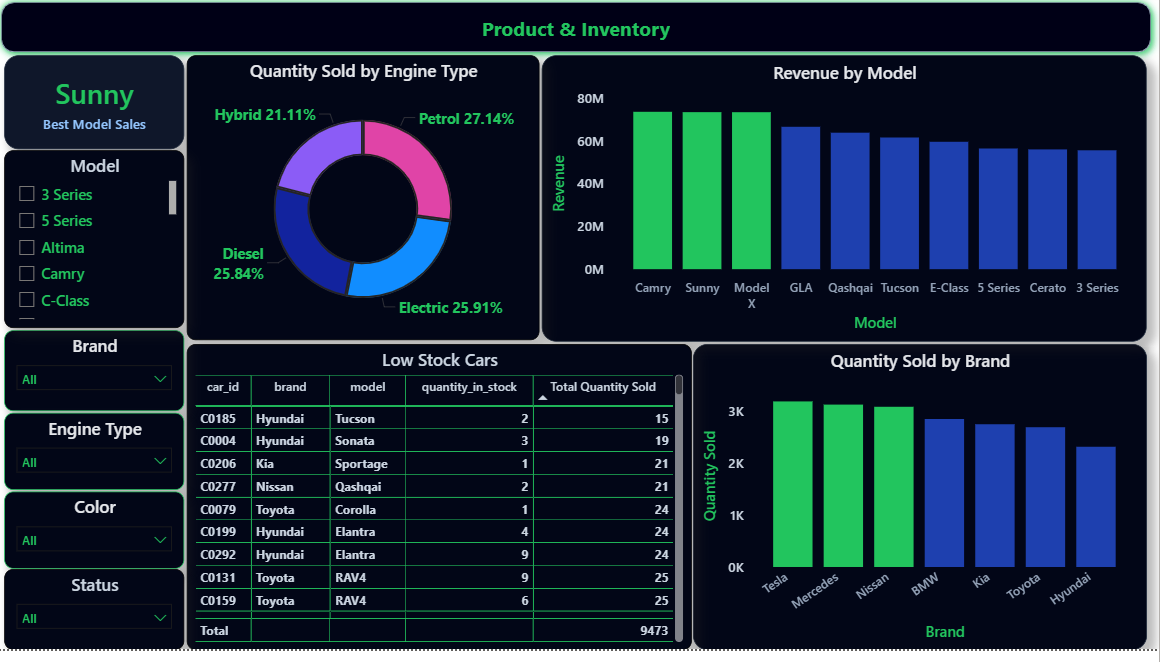

This screenshot's page, from the dashboard's own definition file:
{"tool":"powerbi","page":{"name":"Page 3","canvas":[1280,720],"ordinal":2},"visuals":[{"type":"shape","box":[0,0,1280,72.9],"z":0},{"type":"card","fields":{"Values":["fact_sales.Best Model Sales"]},"box":[12.3,67.2,197.6,102.9],"z":1000},{"type":"clusteredColumnChart","title":"Quantity Sold by Brand","fields":{"Y":["fact_sales.Total Quantity Sold"],"Category":["dim_cars.brand"]},"box":[768.4,384.2,498.1,336.2],"z":2000},{"type":"clusteredColumnChart","title":"Revenue by Model","fields":{"Category":["dim_cars.model"],"Y":["fact_sales.Total Revenue"]},"box":[602.4,67.2,664.2,314.2],"z":3000},{"type":"donutChart","title":"Quantity Sold by Engine Type","fields":{"Category":["dim_cars.engine_type"],"Y":["fact_sales.Total Quantity Sold"]},"box":[212.7,67.2,387,312.9],"z":4000},{"type":"tableEx","title":"Low Stock Cars","fields":{"Values":["dim_cars.car_id","dim_cars.brand","dim_cars.model","dim_cars.quantity_in_stock","fact_sales.Total Quantity Sold"]},"box":[212.7,384.2,554.4,336.2],"z":5000},{"type":"slicer","title":"Brand","fields":{"Values":["dim_cars.brand"]},"box":[12.3,369.1,197.6,89.2],"z":6000},{"type":"slicer","title":"Model","fields":{"Values":["dim_cars.model"]},"box":[12.3,171.5,197.6,194.9],"z":7000},{"type":"slicer","title":"Engine Type","fields":{"Values":["dim_cars.engine_type"]},"box":[12.3,459.7,197.6,85.1],"z":8000},{"type":"slicer","title":"Color","fields":{"Values":["dim_cars.color"]},"box":[12.3,546.1,197.6,85.1],"z":9000},{"type":"slicer","title":"Status","fields":{"Values":["dim_cars.status"]},"box":[12.3,631.2,197.6,89.2],"z":10000}]}

Visuals, with their boxes in screenshot pixels (x1, y1, x2, y2), scaled from the page's 1280x720 canvas onto the 1160x662 screenshot:
shape: region(0, 0, 1159, 67)
card - fact_sales.Best Model Sales: region(11, 62, 190, 156)
"Quantity Sold by Brand" clusteredColumnChart: region(696, 353, 1148, 661)
"Revenue by Model" clusteredColumnChart: region(546, 62, 1148, 351)
"Quantity Sold by Engine Type" donutChart: region(193, 62, 543, 349)
"Low Stock Cars" tableEx: region(193, 353, 695, 661)
"Brand" slicer: region(11, 339, 190, 421)
"Model" slicer: region(11, 158, 190, 337)
"Engine Type" slicer: region(11, 423, 190, 501)
"Color" slicer: region(11, 502, 190, 580)
"Status" slicer: region(11, 580, 190, 661)
